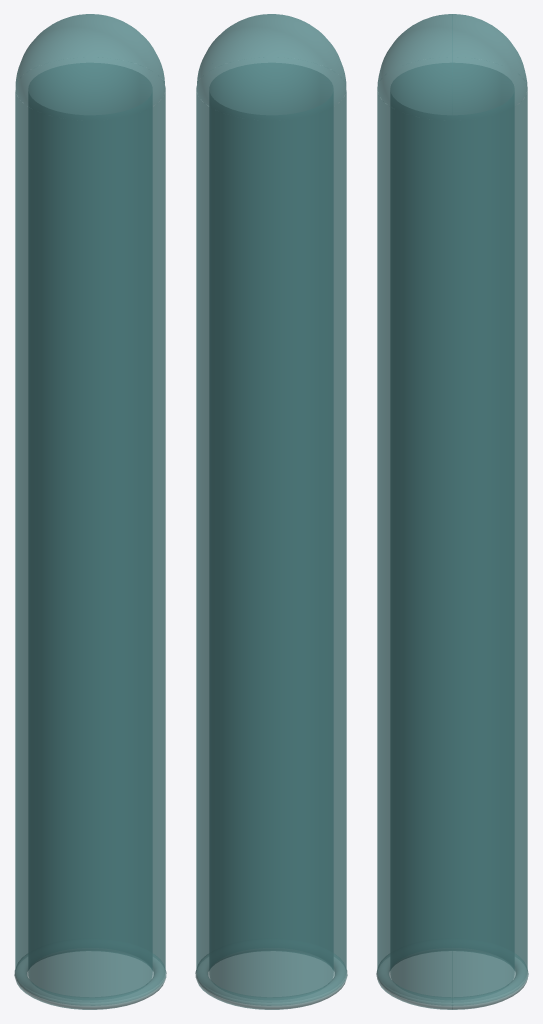
The model's file is local.glb.
3 views of the same model, side by side, from view 1: azimuth 30°, elevation 25°; view 2: azimuth 150°, elevation 25°; view 3: azimuth 270°, elevation 25° (orthographic).
Parts seen in each view (by area): view 1: loose_tube; view 2: loose_tube; view 3: loose_tube.
Boxes of the visible parts, <box> form: loose_tube: <box>14,14,166,1009</box>; loose_tube: <box>195,14,347,1009</box>; loose_tube: <box>376,14,528,1009</box>.
Bounding box in the file's own units: 0.0142 × 0.0986 × 0.0142.
